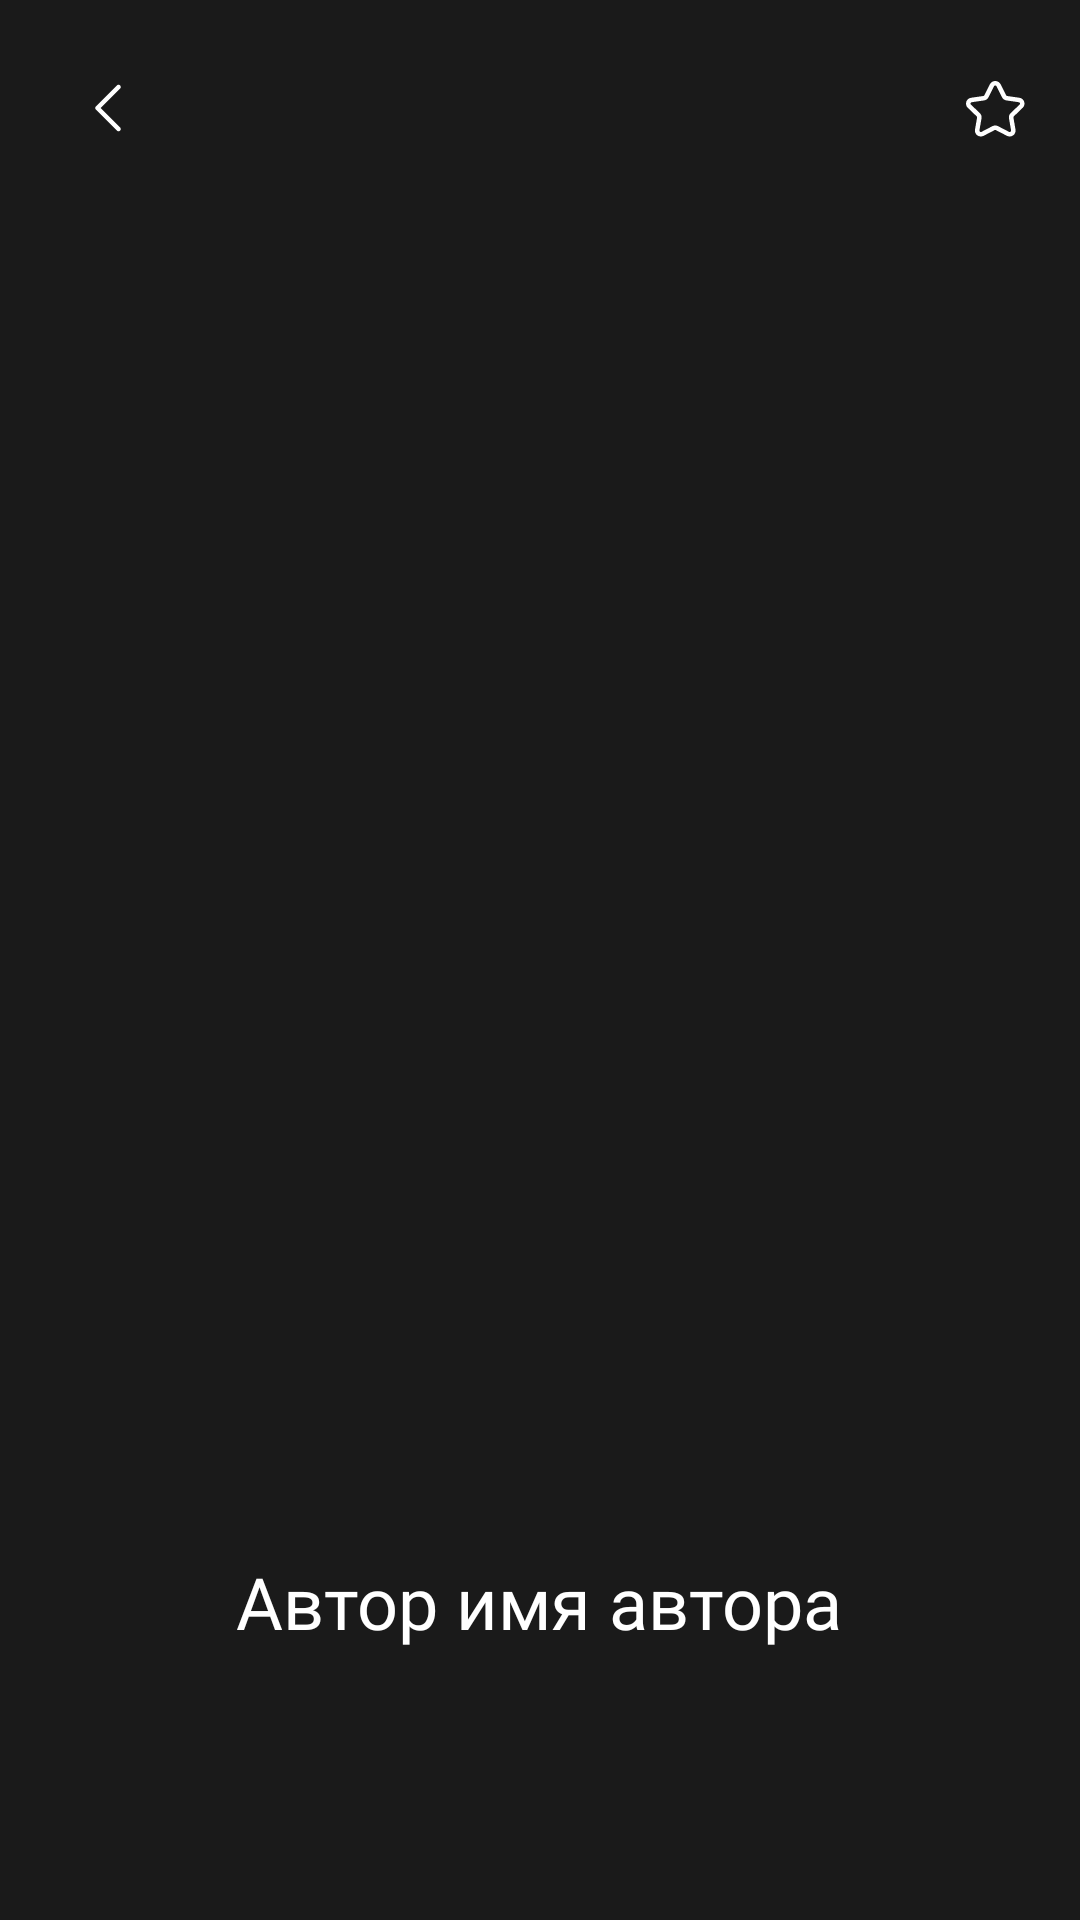

Where to tap for icons on this 1080px×1920px app screen, as (x=x, y=y):
Избранное: (x=995, y=109)
Назад: (x=108, y=108)
